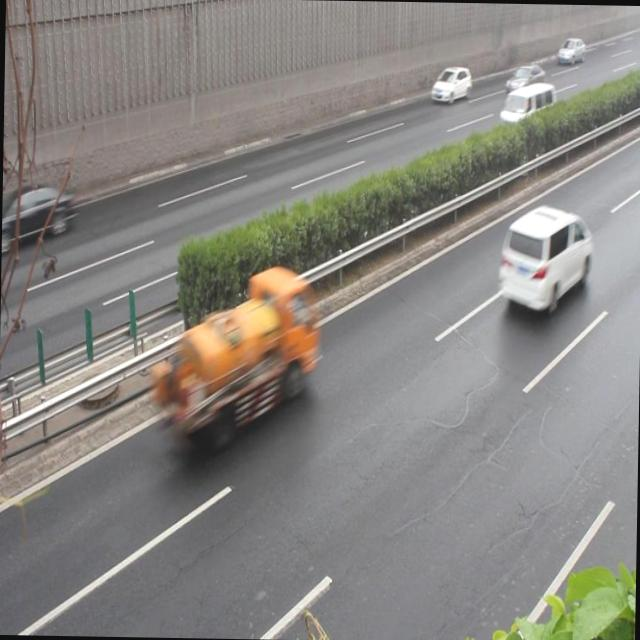car: (496, 200, 590, 308), (1, 183, 74, 248), (428, 62, 468, 102), (502, 60, 541, 96)
